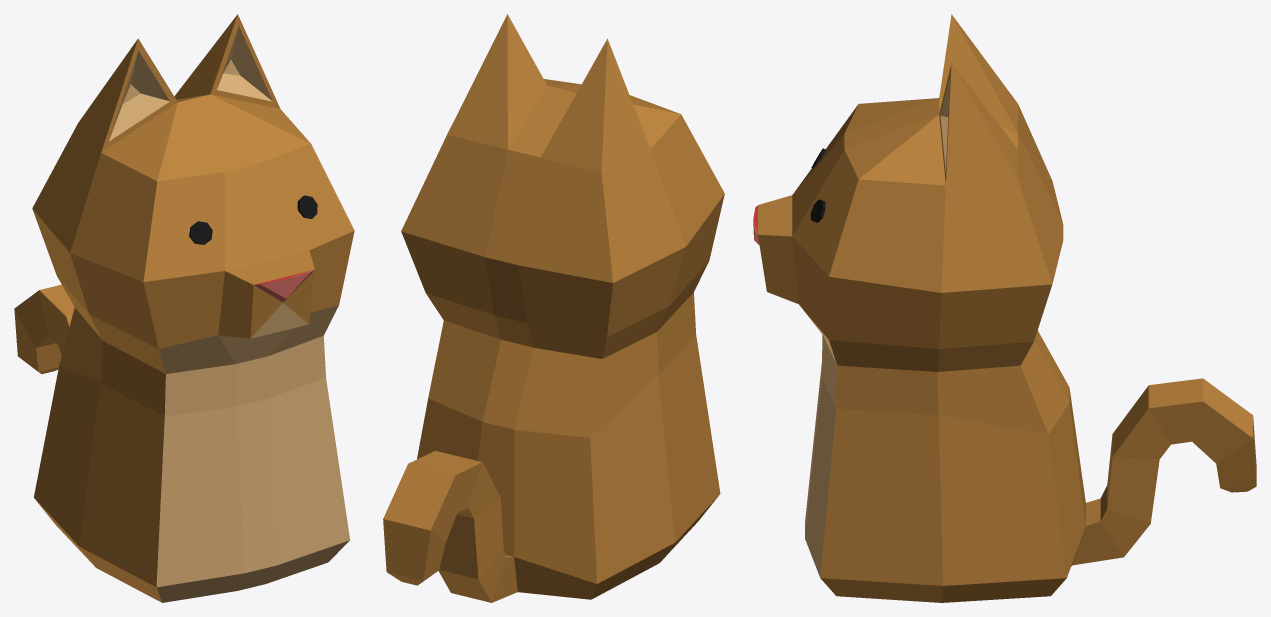
Rendered from Kitten_01.fbx.
3 views of the same model, side by side, from view 1: azimuth 30°, elevation 25°; view 2: azimuth 150°, elevation 25°; view 3: azimuth 270°, elevation 25° (orthographic).
Parts seen in each view (by area): view 1: Kitten_01; view 2: Kitten_01; view 3: Kitten_01.
Boxes of the visible parts, x1=… form: Kitten_01: x1=14, y1=14, x2=354, y2=602; Kitten_01: x1=383, y1=14, x2=724, y2=602; Kitten_01: x1=753, y1=14, x2=1256, y2=602.
Bounding box in the file's own units: 3.12 × 6.23 × 5.5.
